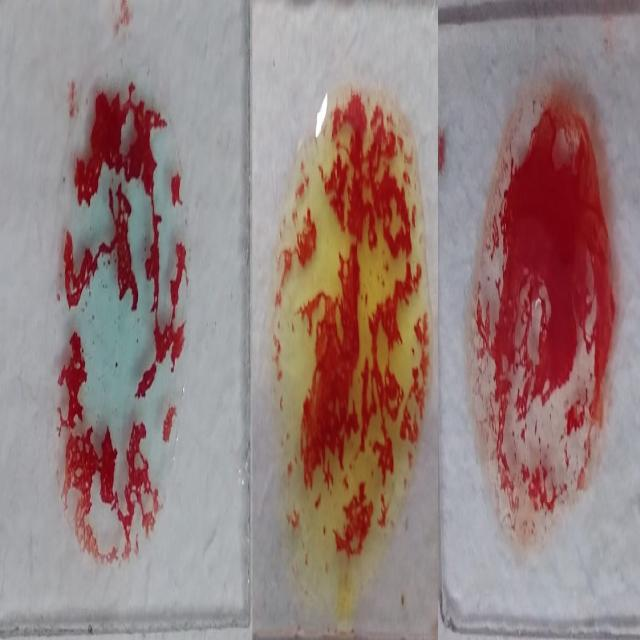A: (53, 70, 184, 559)
B: (275, 82, 426, 622)
D: (472, 82, 617, 550)
